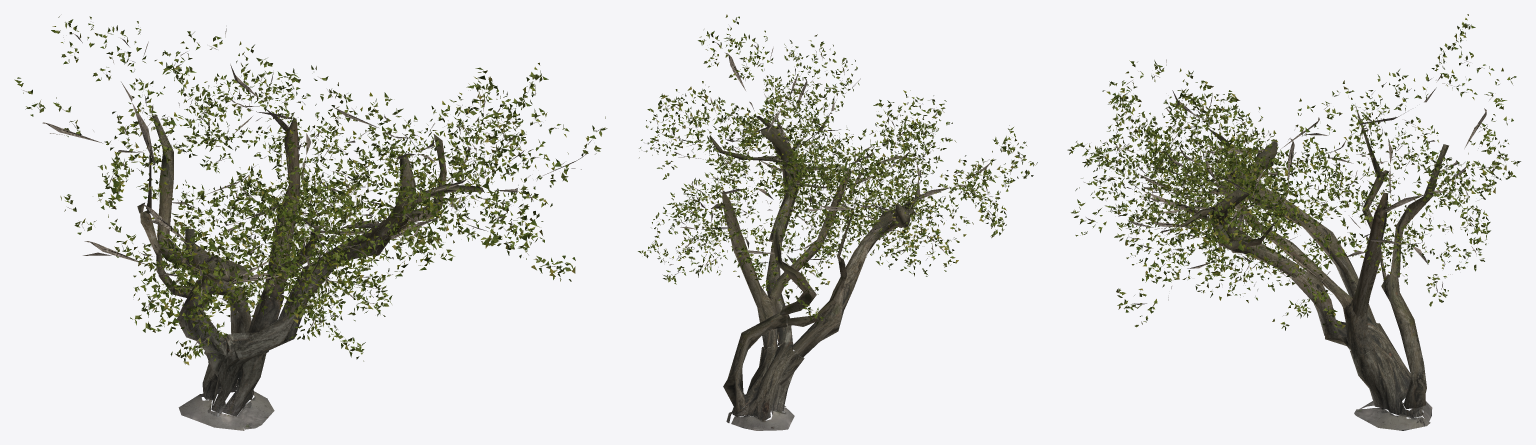
File: V_island_tree_02.glb
3 views of the same model, side by side, from view 1: azimuth 30°, elevation 25°; view 2: azimuth 150°, elevation 25°; view 3: azimuth 270°, elevation 25° (orthographic). The views are drawn at different scales.
Parts seen in each view (by area): view 1: V_island_tree_02; view 2: V_island_tree_02; view 3: V_island_tree_02.
Boxes of the visible parts, x1,y1,x2,y2 form: V_island_tree_02: [14, 16, 607, 430]; V_island_tree_02: [638, 14, 1037, 430]; V_island_tree_02: [1067, 14, 1520, 430].
Bounding box in the file's own units: 10.09 × 8.99 × 10.71.
3 materials, 3 textured.
